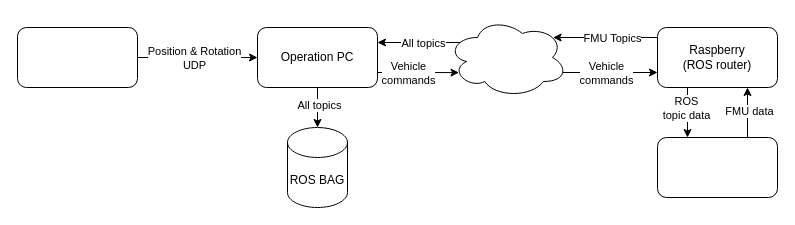
This 795x225 diagram has some shape labels left out. Each missing label, with the centre of its shape:
ROS: [507,57]
Vicon (PC): [77,57]
